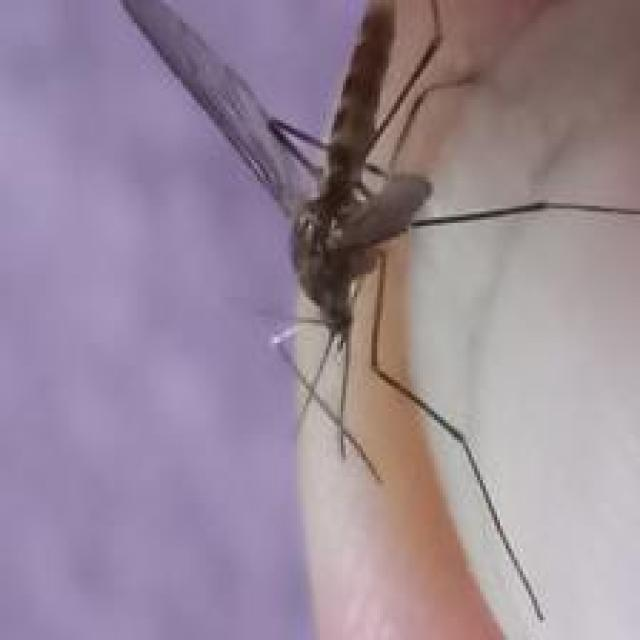Culex: (105, 0, 640, 623)
